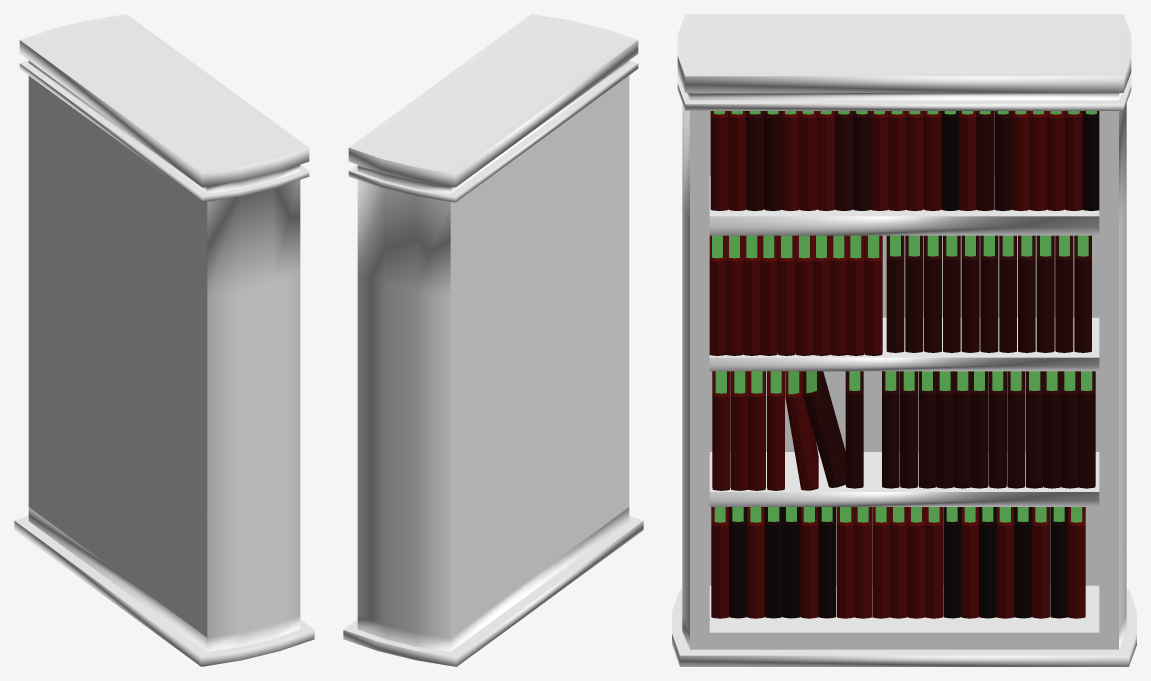
File: Right2.fbx
The picture shows the model from 3 angles, left to right: view 1: azimuth 30°, elevation 25°; view 2: azimuth 150°, elevation 25°; view 3: azimuth 270°, elevation 25°; orthographic projection. The views are drawn at different scales.
Parts seen in each view (by area): view 1: Book Shelf.003; view 2: Book Shelf.003; view 3: Book Shelf.003.
Part boxes in pixels (box(x1,y1,x2,y2)): Book Shelf.003: box(14, 14, 314, 666); Book Shelf.003: box(343, 14, 643, 666); Book Shelf.003: box(672, 14, 1136, 666).
Bounding box in the file's own units: 381 × 1574 × 1127.
